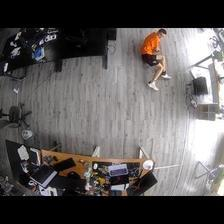fall: (140, 27, 172, 89)
